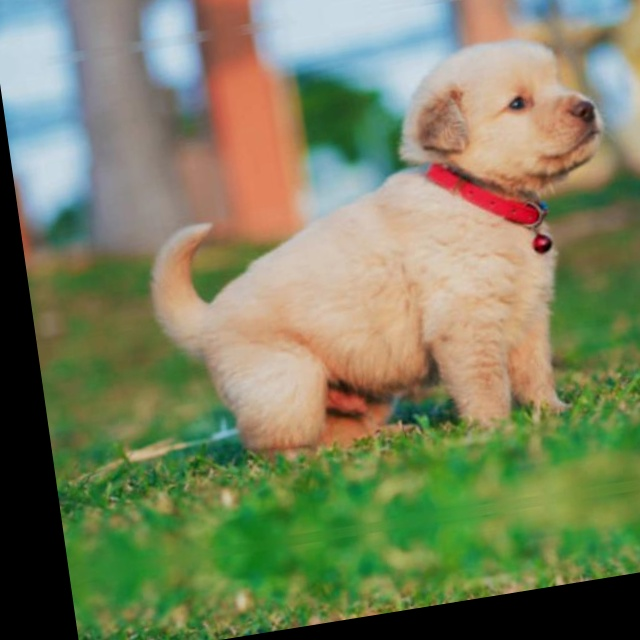dog: (104, 19, 640, 491), (179, 549, 640, 640)
